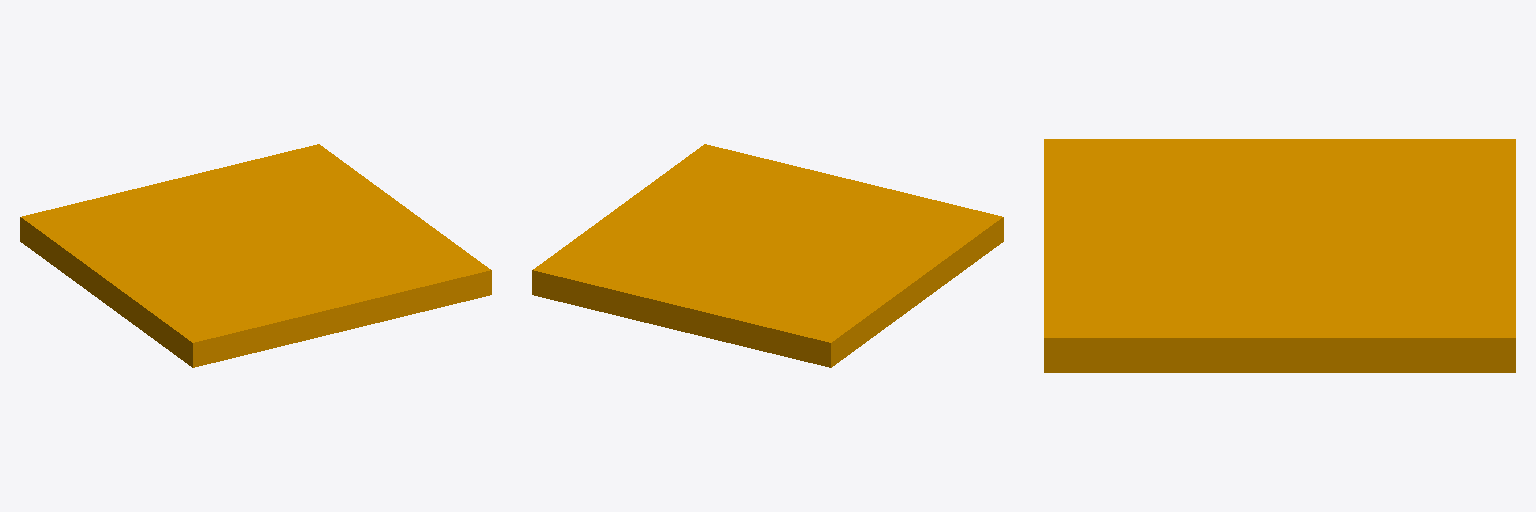
URDF robot description (pnp_tray):
<robot name="pnp_tray">
  <link name="pnp_tray">
    <inertial>
      <origin xyz="0.05 0.05 0.004" />
      <mass value="0.7" />
      <!-- (1/12)*mass*(h^2 + d^2)  (1/12)*mass*(w^2 + d^2) (1/12)*mass*(w^2 + h^2) -->
      <!-- (1/12)*0.5*(0.045^2 + 0.045^2)  (1/12)*0.5*(0.045^2 + 0.045^2) (1/12)*0.5*(0.045^2 + 0.045^2) -->
      <!--inertia  ixx="0.00016874999" ixy="0.0"  ixz="0.0"  iyy="0.00016874999"  iyz="0.0"  izz="0.00016874999" /-->
      <inertia  ixx="0.001" ixy="0.0"  ixz="0.0"  iyy="0.001"  iyz="0.0"  izz="0.001" />

    </inertial>
    <visual>
      <origin xyz="0.05 0.05 0.004"/>
      <geometry>
        <box size="0.10 0.10 0.008" />
      </geometry>
    </visual>
    <collision>
      <origin xyz="0.05 0.05 0.004"/>
      <geometry>
        <box size="0.10 0.10 0.008" />
      </geometry>
    </collision>
  </link>
  <gazebo>
    <material>Gazebo/Green</material>
    <static>true</static>
  </gazebo>
</robot>

--- Facts derived from the render (not from the file) ---
3 views of the same robot in one strip: view 1: azimuth 30°, elevation 25°; view 2: azimuth 150°, elevation 25°; view 3: azimuth 270°, elevation 25° (orthographic).
Model pnp_tray with 1 links and 0 joints (none), rooted at pnp_tray, posed every joint at zero.
Visible links, largest first — view 1: pnp_tray; view 2: pnp_tray; view 3: pnp_tray.
Link boxes in pixels (x1,y1,x2,y2): pnp_tray: (20,144,491,367); pnp_tray: (532,144,1003,367); pnp_tray: (1044,139,1515,372).
Bounding box of the posed robot: 0.1 × 0.1 × 0.008 m (x, y, z).
Geometry: primitives only (box / cylinder / sphere), no mesh files.